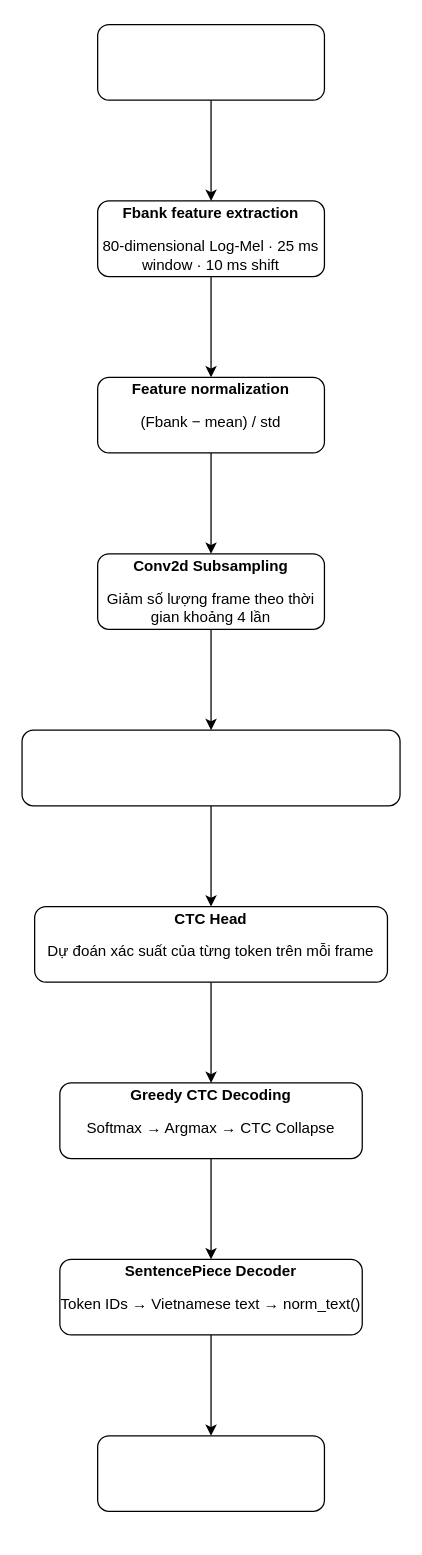
This 422x1555 diagram has some shape labels left out. The centre of each missing label's shape, as x and y in pixels:
Audio waveform Float32 · Mono · 16 kHz: pixel 210 61
Conformer Encoder × 8 FFN + Multi-Head Self-Attention + Convolution Module: pixel 210 767
Kết quả Văn bản + confidence score: pixel 210 1473
